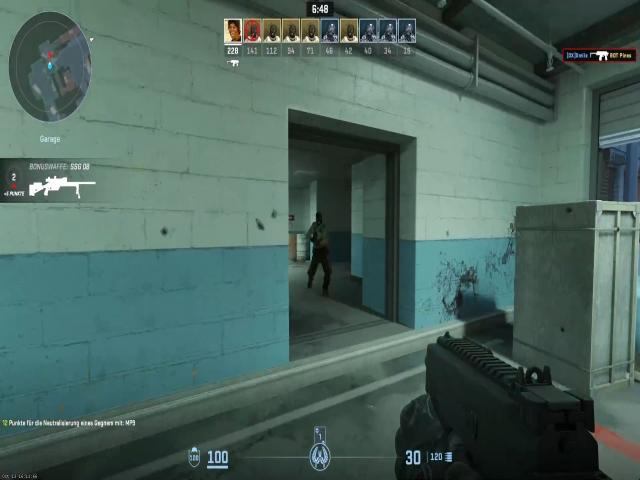T: (310, 212, 332, 263)
T-Head: (313, 209, 324, 227)
